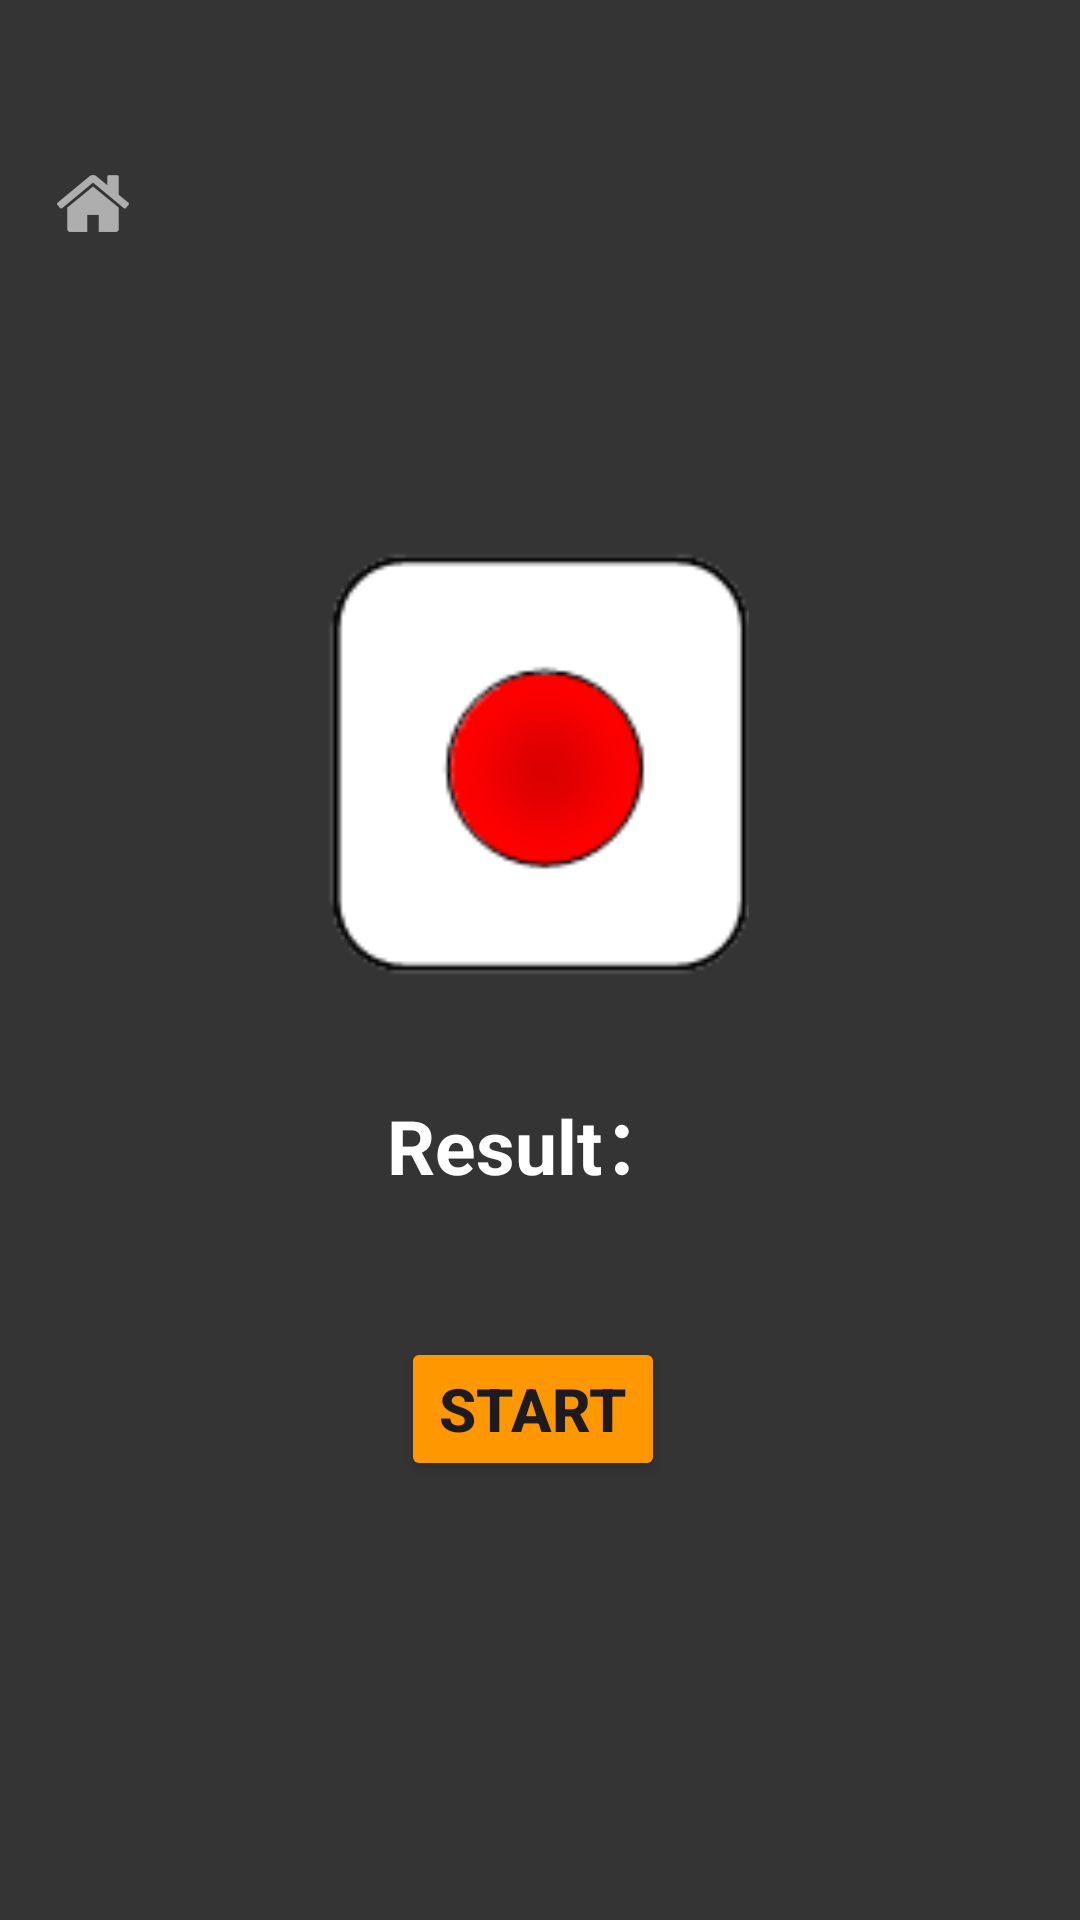

Icon bounding boxes for this 1080×1920 phone screenshot, format (x1, y1, x2, y2):
Home: (57, 175, 129, 232)
